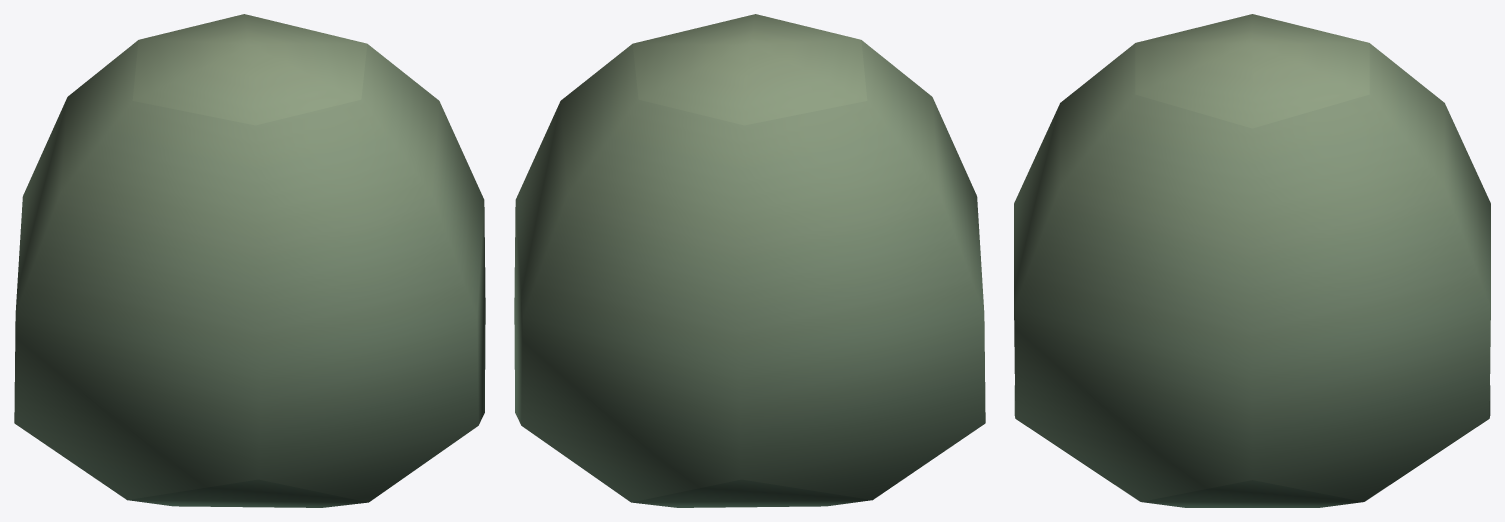
Rendered from Bush_1_A.glb.
3 views of the same model, side by side, from view 1: azimuth 30°, elevation 25°; view 2: azimuth 150°, elevation 25°; view 3: azimuth 270°, elevation 25° (orthographic).
Parts seen in each view (by area): view 1: Bush_1_A_Color1; view 2: Bush_1_A_Color1; view 3: Bush_1_A_Color1.
Part boxes in pixels (<box>): Bush_1_A_Color1: <box>14,14,485,507</box>; Bush_1_A_Color1: <box>514,14,985,507</box>; Bush_1_A_Color1: <box>1014,14,1490,507</box>.
Bounding box in the file's own units: 0.2672 × 0.2267 × 0.2341.
Materials: 1 (1 with a texture image).
